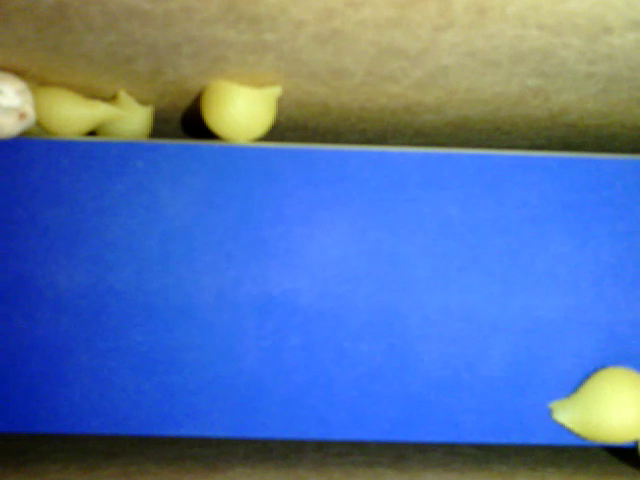shell: (545, 362, 639, 444), (25, 81, 134, 138), (197, 79, 280, 141), (93, 89, 156, 140)
